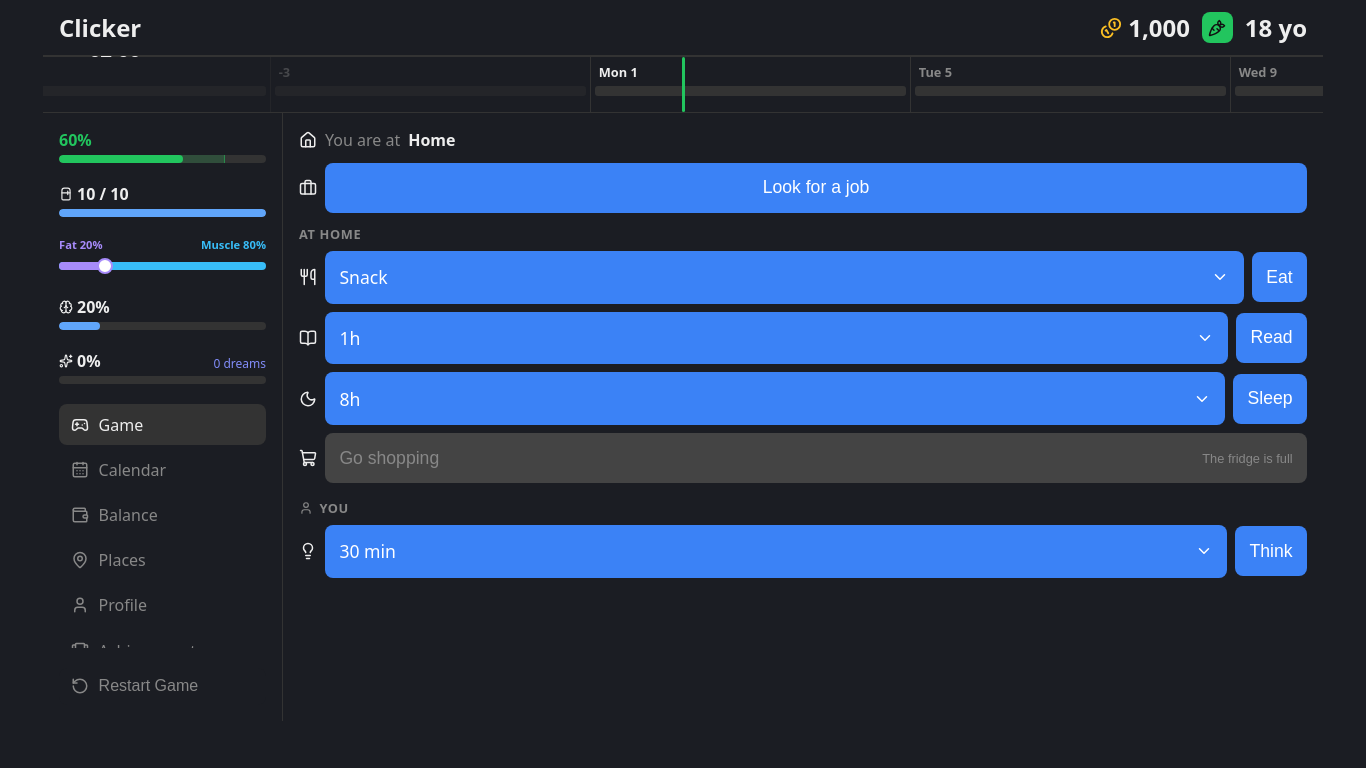
Test: the sidebar opens the calendar page, one day at a time on mobile
Click the link "Calendar". click: (119, 470)
box: [71, 459, 166, 481]
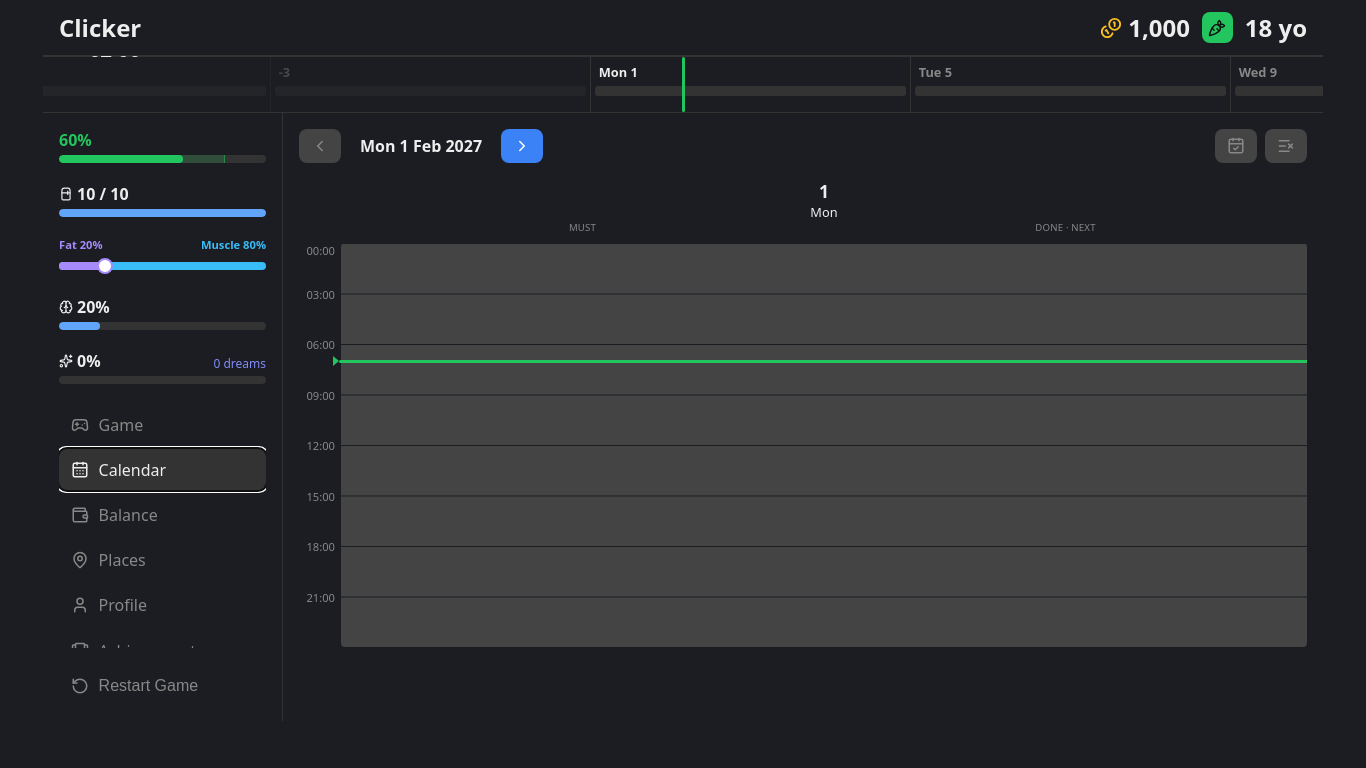
Now the number of lists is 1, box [341, 243, 1307, 647]
